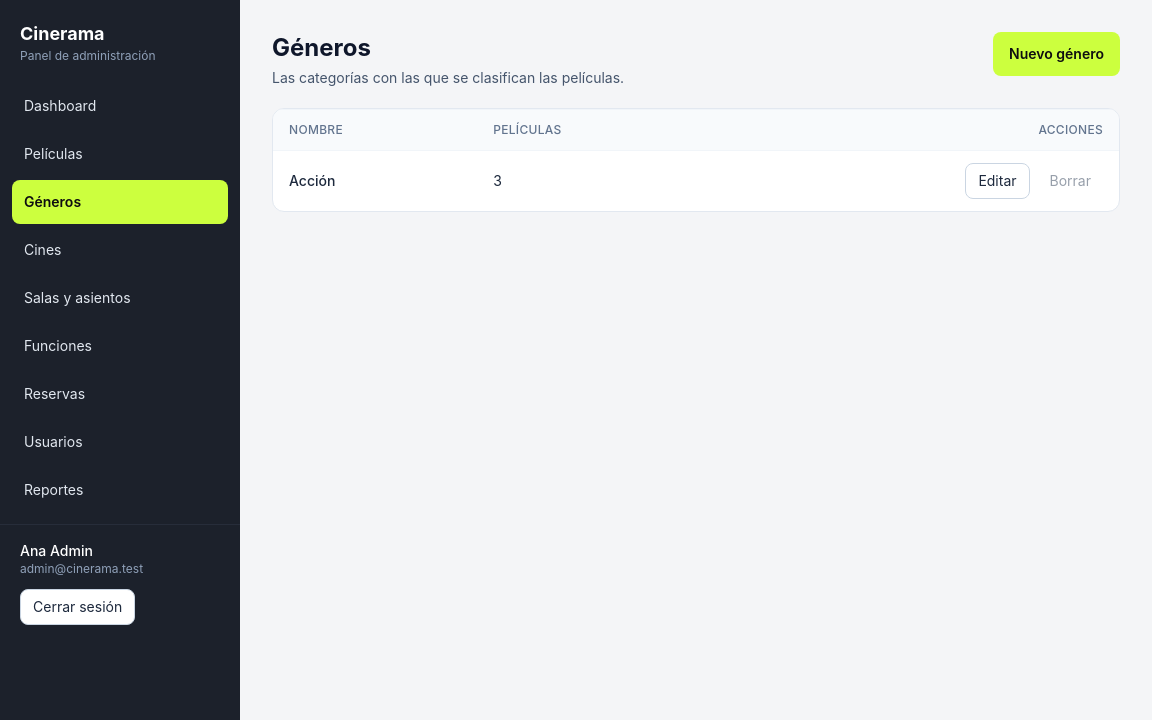
Scenario: Géneros › crea un género y recarga la lista
Click the button "Nuevo género" at (1057,54), box [993,32,1120,76]
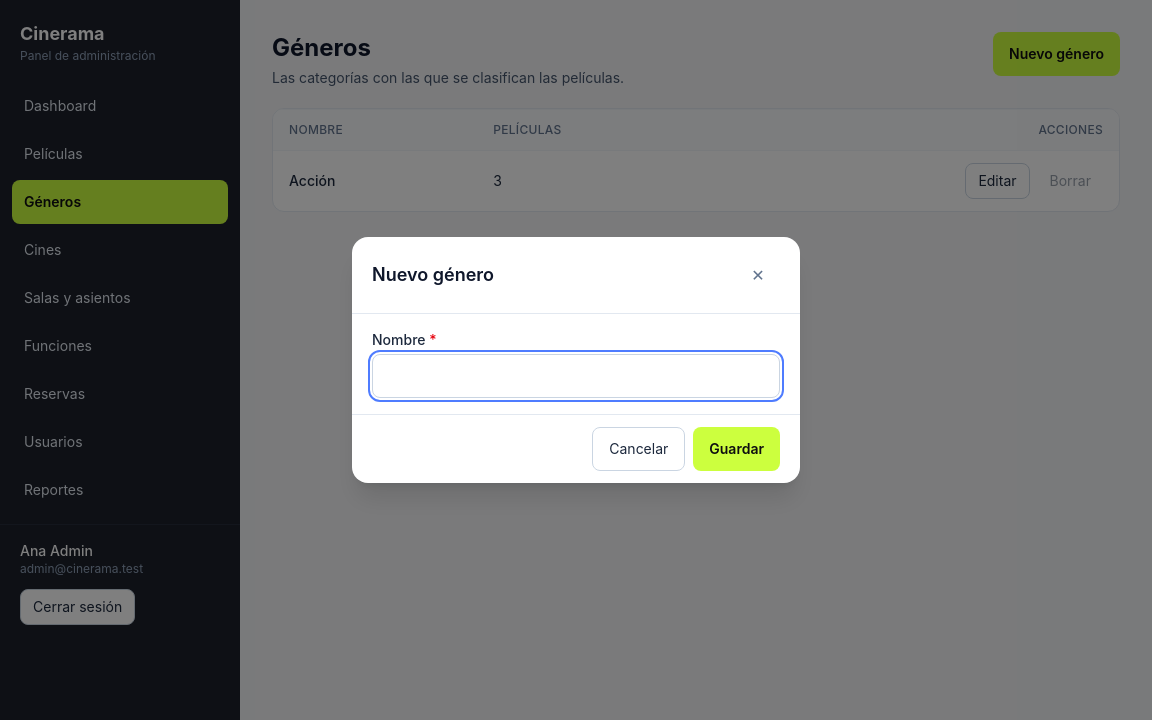
Type "Terror" into the field labelled "Nombre *" at (576,376), box [372,354,780,398]
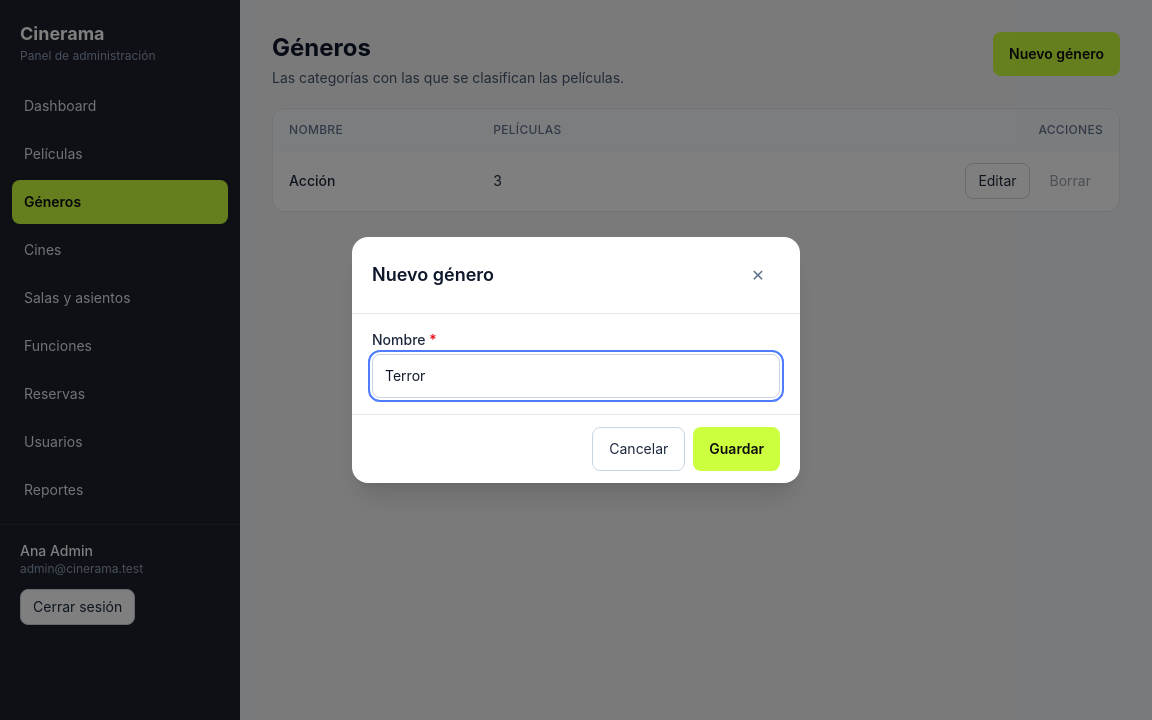
Click the button "Guardar" at (737,449), box [693,427,780,471]
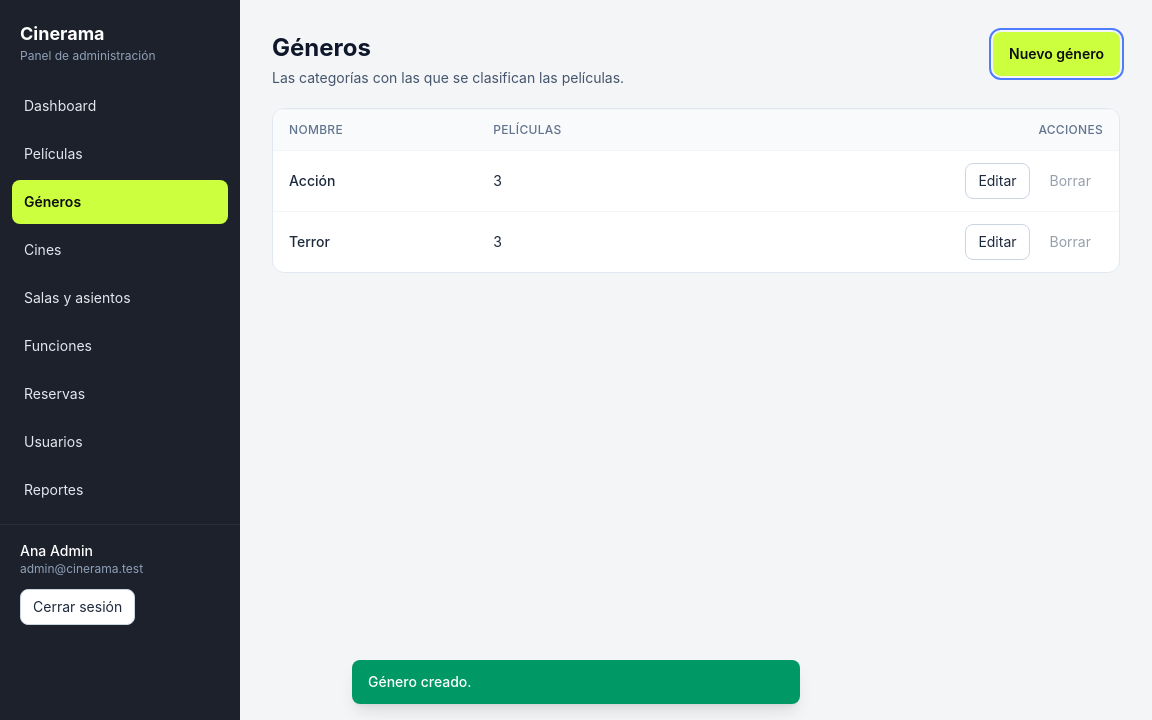
Check: the text "Género creado." is shown, box [352,660,800,704]
Check: the text "Terror" is shown, box [273,212,477,272]
